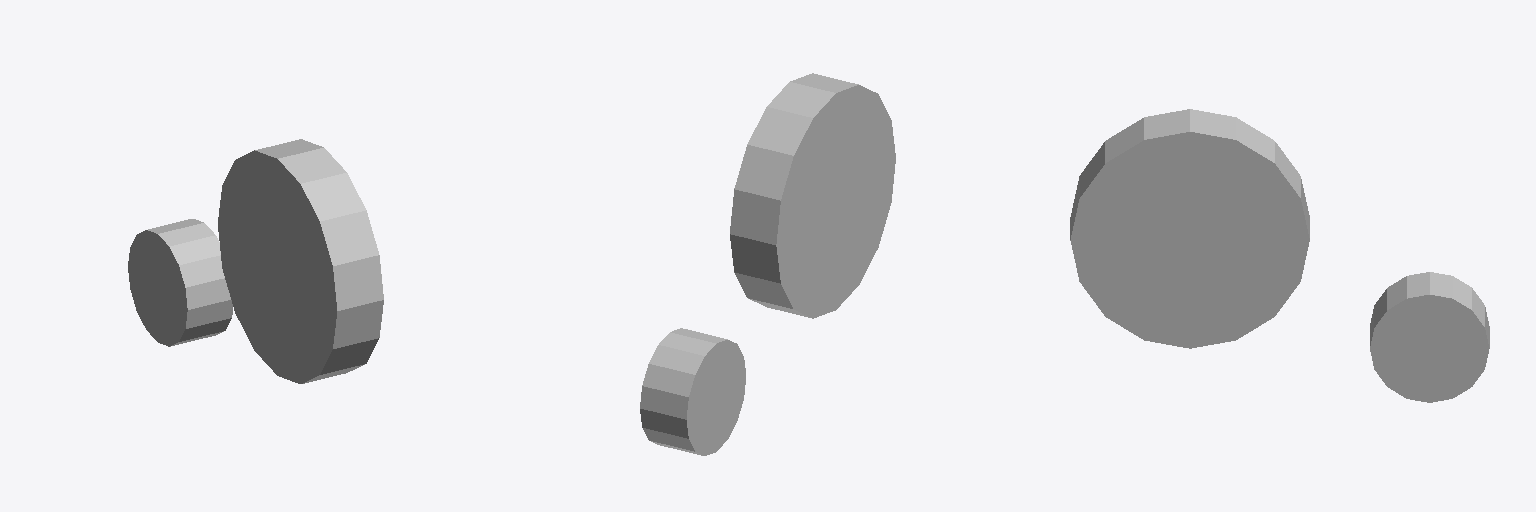
File: barrel_sprocket.obj
3 views of the same model, side by side, from view 1: azimuth 30°, elevation 25°; view 2: azimuth 150°, elevation 25°; view 3: azimuth 270°, elevation 25° (orthographic).
Visible parts, largest first — view 1: BarrelSprocket; view 2: BarrelSprocket; view 3: BarrelSprocket.
Boxes of the visible parts, <box> form: BarrelSprocket: <box>128,139,383,383</box>; BarrelSprocket: <box>640,73,895,455</box>; BarrelSprocket: <box>1070,109,1489,402</box>.
Bounding box in the file's own units: 0.09 × 0.5 × 0.7.